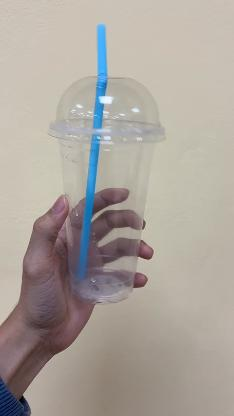Plastic Cup: (50, 72, 168, 304)
